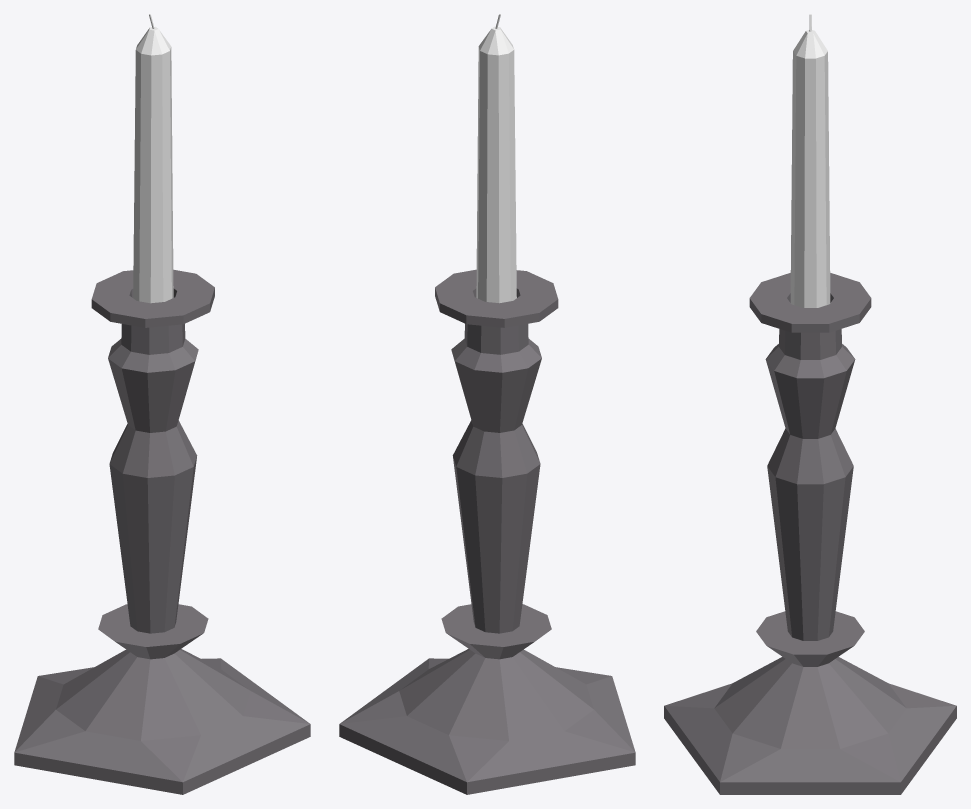
Rendered from candlestick04.gltf.
3 views of the same model, side by side, from view 1: azimuth 30°, elevation 25°; view 2: azimuth 150°, elevation 25°; view 3: azimuth 270°, elevation 25° (orthographic).
Parts seen in each view (by area): view 1: Cylinder; view 2: Cylinder; view 3: Cylinder.
Boxes of the visible parts, left/top/right/bottom form: Cylinder: left=14, top=14, right=310, bottom=794; Cylinder: left=339, top=14, right=635, bottom=794; Cylinder: left=664, top=14, right=956, bottom=794.
Bounding box in the file's own units: 0.1167 × 0.3183 × 0.1167.
Materials: 1 (1 with a texture image).
